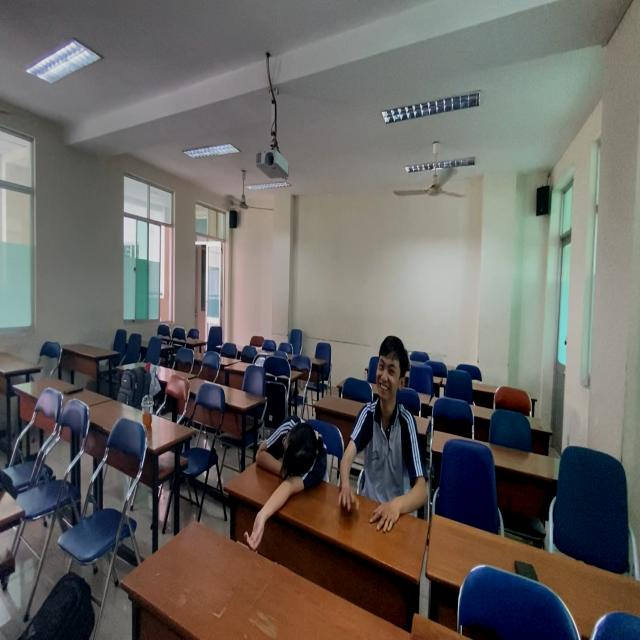sleep: (248, 414, 336, 525)
